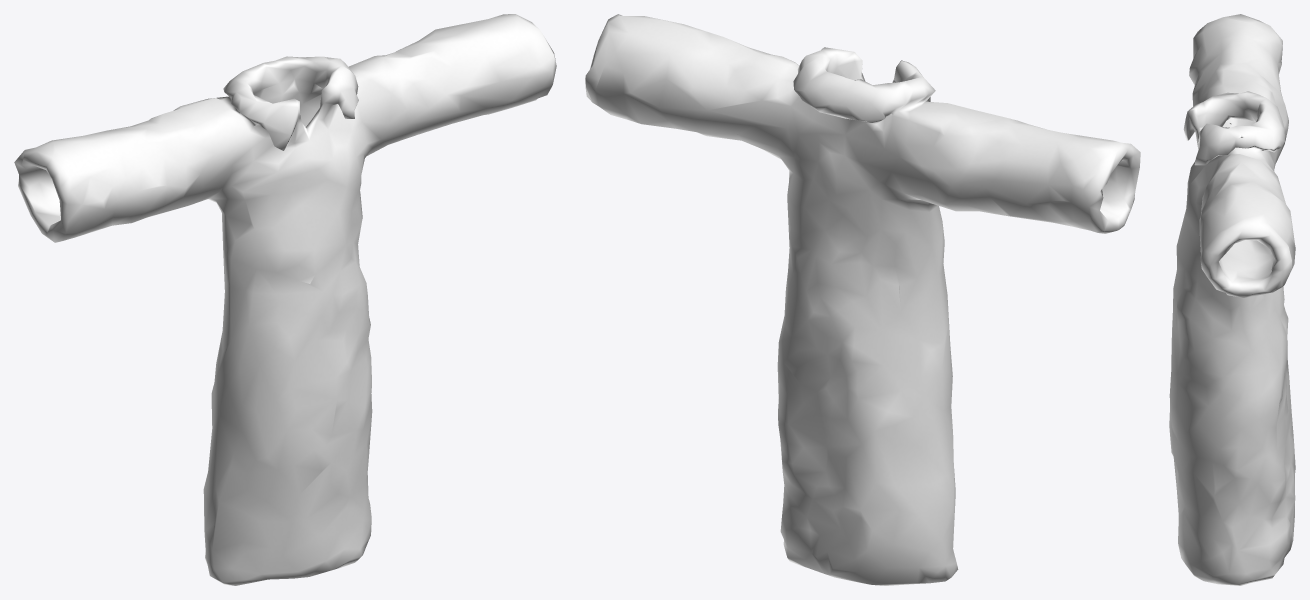
Rendered from collared shirt white.glb.
3 renders of one model, left to right at view 1: azimuth 30°, elevation 25°; view 2: azimuth 150°, elevation 25°; view 3: azimuth 270°, elevation 25°, orthographic. The views are drawn at different scales.
Visible parts, largest first — view 1: shirt_collared_white.001; view 2: shirt_collared_white.001; view 3: shirt_collared_white.001.
Part boxes in pixels (<box>): shirt_collared_white.001: <box>14,14,556,585</box>; shirt_collared_white.001: <box>585,14,1140,585</box>; shirt_collared_white.001: <box>1169,14,1295,585</box>.
Bounding box in the file's own units: 0.3709 × 0.341 × 0.0863.
Materials: 1 (1 with a texture image).
